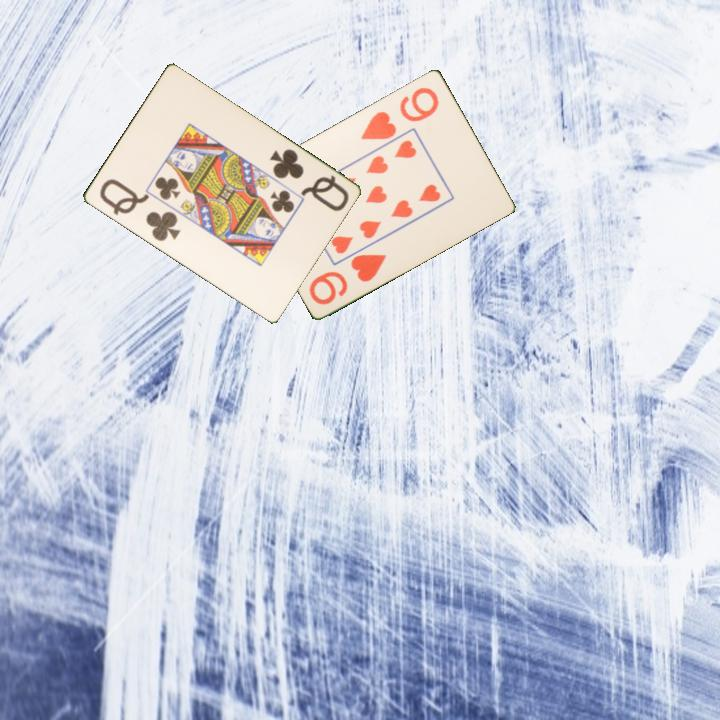9h: (357, 83, 442, 142), (305, 250, 390, 308)
Qc: (95, 175, 183, 244), (266, 145, 352, 215)
